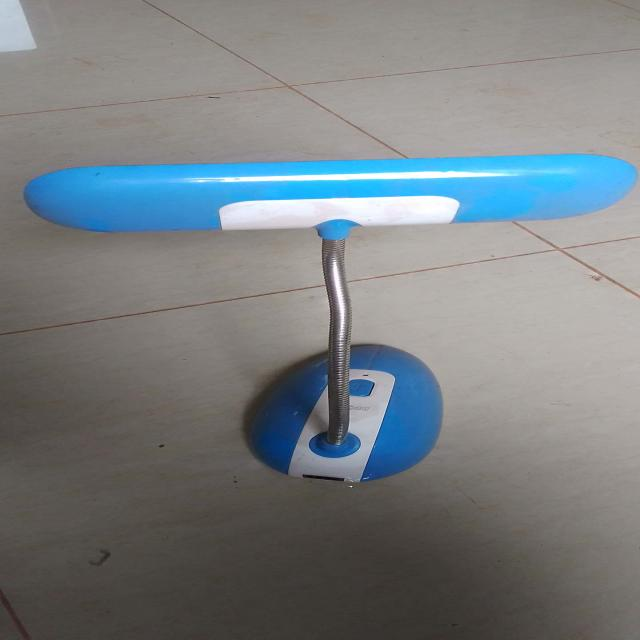Lantern: (12, 148, 640, 488)
